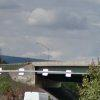Bridge: (6, 51, 86, 90)
